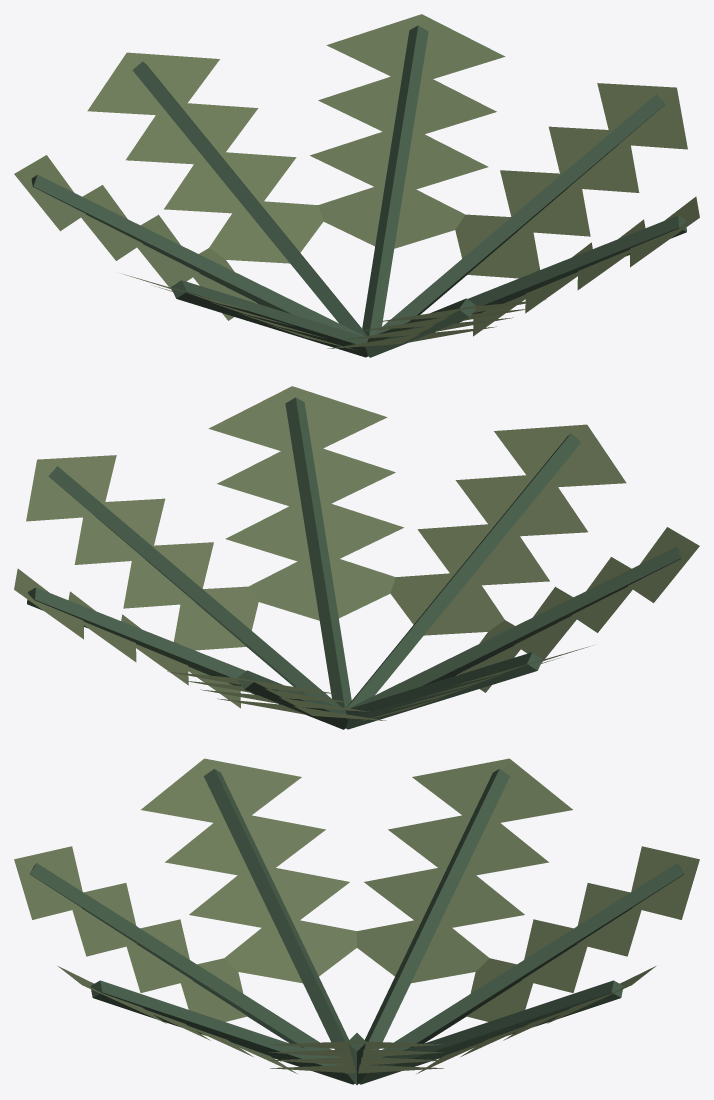
File: NAT_Ground_02_Fern.glb
The picture shows the model from 3 angles, top to bottom: view 1: azimuth 30°, elevation 25°; view 2: azimuth 150°, elevation 25°; view 3: azimuth 270°, elevation 25°; orthographic projection.
Visible parts, largest first — view 1: NAT_Ground_02_Fern; view 2: NAT_Ground_02_Fern; view 3: NAT_Ground_02_Fern.
Boxes of the visible parts, left/top/right/bottom form: NAT_Ground_02_Fern: left=14, top=14, right=699, bottom=357; NAT_Ground_02_Fern: left=14, top=386, right=699, bottom=729; NAT_Ground_02_Fern: left=14, top=758, right=699, bottom=1084.
Size of the model in its own units: 0.9079 by 0.2846 by 0.9262.
